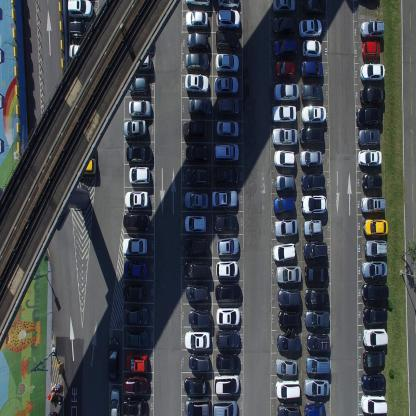car: (360, 393, 388, 415), (362, 281, 389, 303), (69, 18, 93, 42), (360, 85, 386, 107), (303, 309, 330, 330), (362, 327, 389, 348), (212, 142, 240, 162), (107, 336, 119, 382), (214, 30, 239, 52), (360, 18, 385, 40), (361, 371, 386, 393), (185, 165, 211, 186), (123, 210, 149, 231), (362, 304, 388, 325), (214, 282, 241, 302), (123, 118, 147, 140), (185, 74, 209, 96), (215, 52, 239, 74), (298, 18, 322, 40), (306, 353, 330, 375), (306, 331, 330, 353), (272, 241, 296, 263), (215, 327, 240, 348), (214, 373, 239, 394), (302, 241, 327, 262), (122, 394, 148, 414), (122, 374, 148, 394), (274, 83, 300, 103), (272, 127, 298, 147), (67, 0, 94, 19), (356, 108, 383, 127), (186, 142, 209, 164), (216, 97, 239, 119), (214, 165, 238, 186), (273, 38, 297, 59), (184, 375, 208, 396), (277, 287, 301, 308), (304, 264, 328, 285), (362, 349, 386, 370), (183, 236, 208, 256), (183, 190, 208, 210), (184, 259, 209, 279), (299, 127, 324, 147), (304, 376, 329, 396), (275, 379, 300, 399), (276, 264, 301, 284), (360, 62, 385, 82), (363, 217, 388, 237), (211, 190, 237, 209), (122, 305, 148, 324), (300, 195, 326, 214), (360, 195, 386, 214), (126, 144, 153, 162), (183, 330, 210, 348), (125, 350, 147, 372), (122, 280, 145, 301), (182, 119, 205, 140), (273, 149, 296, 170), (123, 258, 147, 278), (215, 306, 239, 326), (188, 98, 212, 118), (187, 307, 211, 327), (277, 333, 301, 353), (214, 76, 239, 95), (301, 106, 326, 125), (271, 105, 296, 124), (300, 173, 325, 192), (303, 288, 328, 307), (184, 397, 210, 415), (212, 397, 238, 415), (215, 10, 241, 28), (126, 327, 148, 348), (274, 60, 296, 81), (129, 53, 152, 73), (69, 42, 92, 62), (186, 32, 209, 52), (272, 17, 295, 37), (300, 60, 323, 80), (300, 83, 323, 103), (273, 196, 296, 216), (124, 190, 148, 209), (215, 351, 239, 370), (274, 218, 298, 237), (358, 148, 382, 167), (364, 239, 388, 258), (122, 236, 147, 254), (72, 156, 97, 174), (185, 53, 210, 71), (362, 260, 387, 278), (184, 214, 206, 234), (129, 165, 151, 185), (358, 128, 380, 148), (129, 98, 152, 117), (215, 259, 238, 278), (214, 212, 237, 231), (185, 282, 208, 301), (186, 10, 209, 29), (216, 120, 239, 139), (298, 150, 322, 168), (277, 309, 301, 327), (301, 40, 322, 60), (216, 236, 238, 255), (187, 352, 209, 371), (276, 357, 298, 376), (362, 172, 382, 192), (302, 218, 323, 237), (304, 0, 326, 18), (130, 75, 149, 95), (274, 174, 294, 193), (272, 0, 296, 15), (304, 400, 326, 416), (362, 41, 380, 60), (277, 402, 301, 415), (109, 386, 119, 416), (218, 0, 240, 9), (186, 0, 210, 8), (47, 408, 58, 415)
